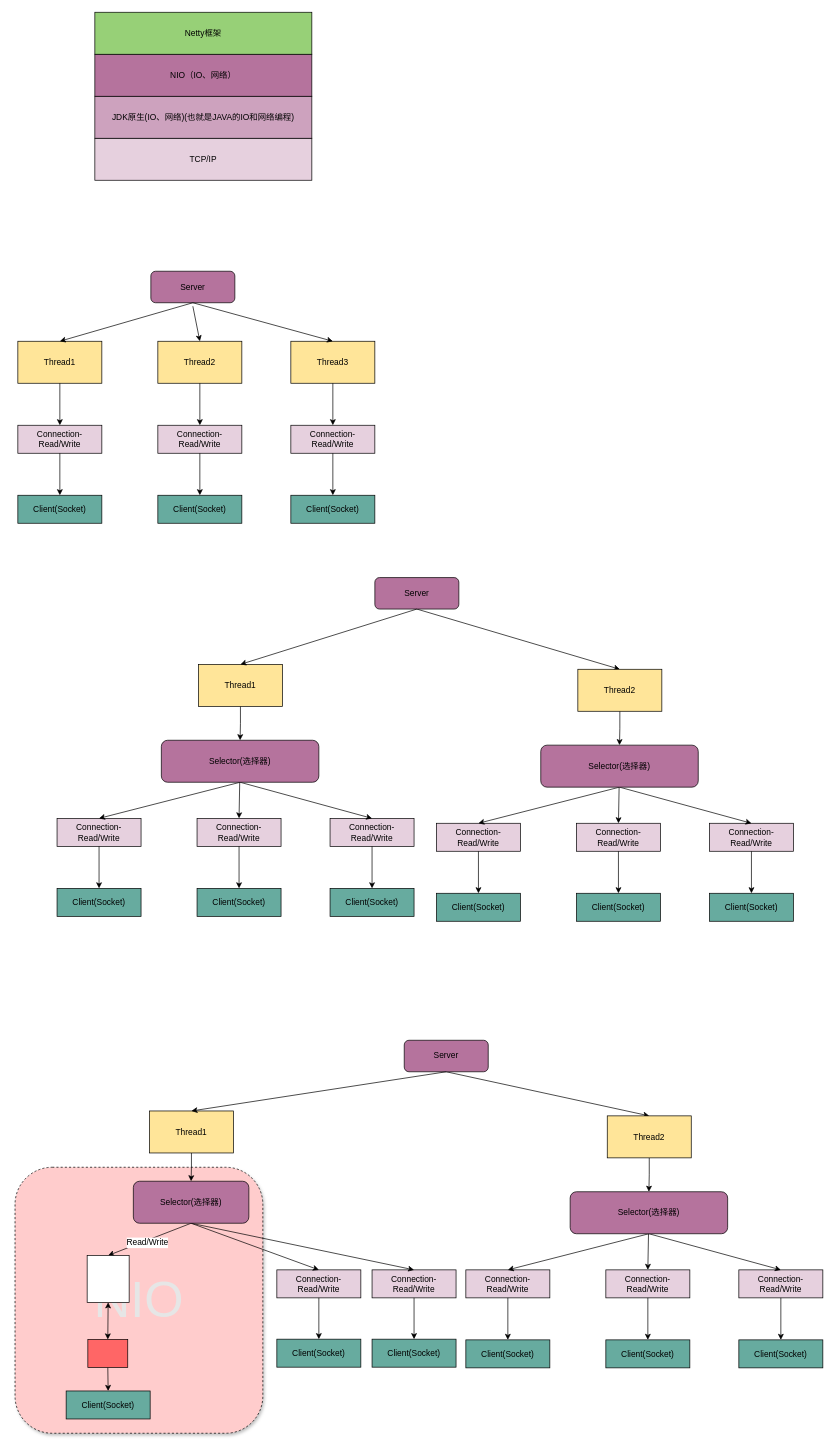
This 835x1450 diagram has some shape labels left out. The centre of each missing label's shape, as x and y in pixels:
"buffer" belongs at pixel 107 1353.
"通道 channel" belongs at pixel 107 1278.
